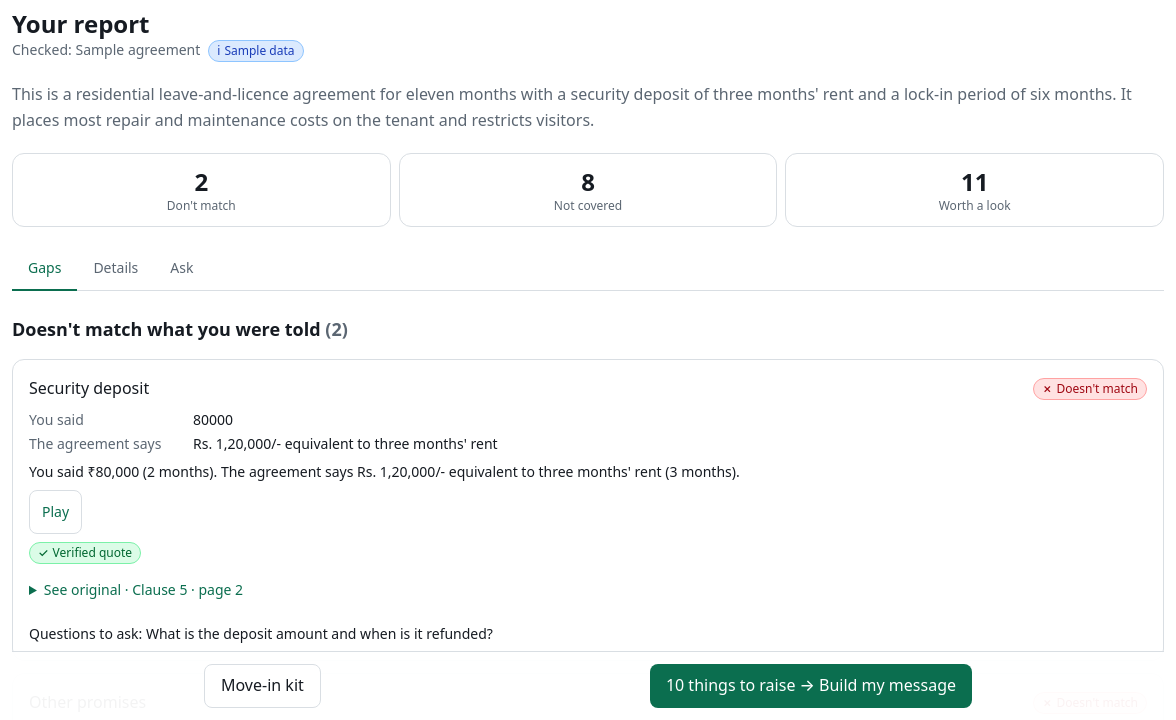
Test: Ask (demo sample) › says plainly when the agreement does not cover something
The image size is (1176, 720).
Click the tab "Ask" at (182, 269), box [154,247,209,291]
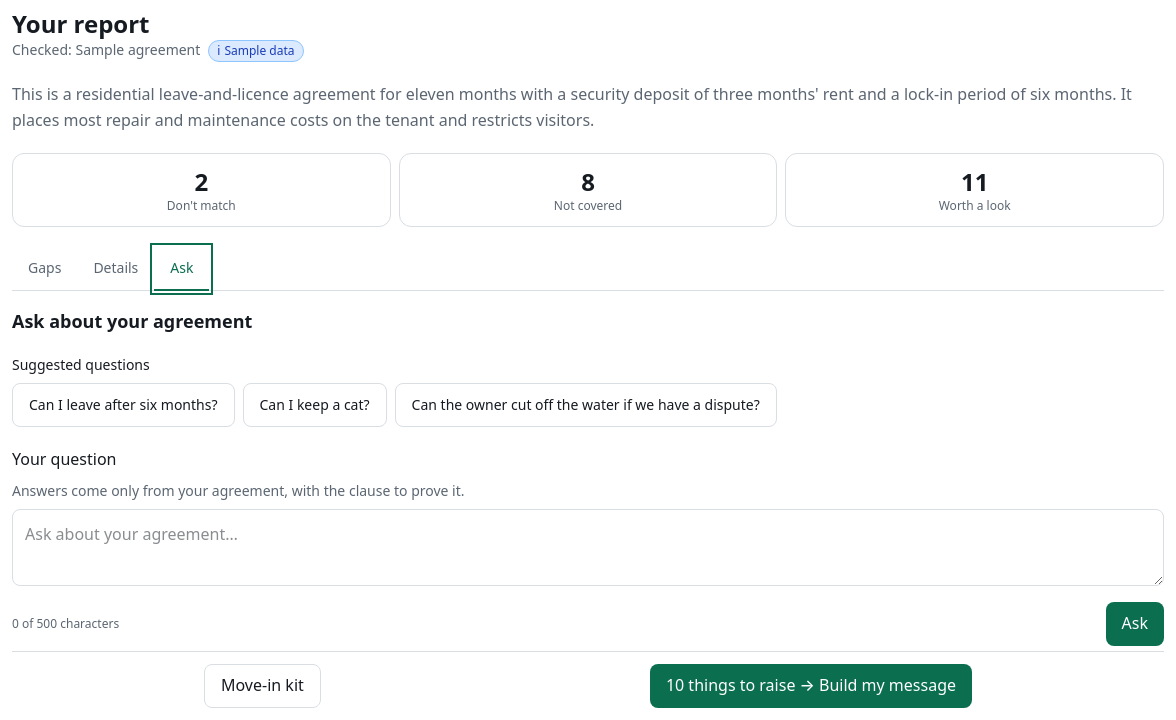
Click the button "Can I keep a cat?" at (315, 405), box [242,383,387,427]
(page scrolled)
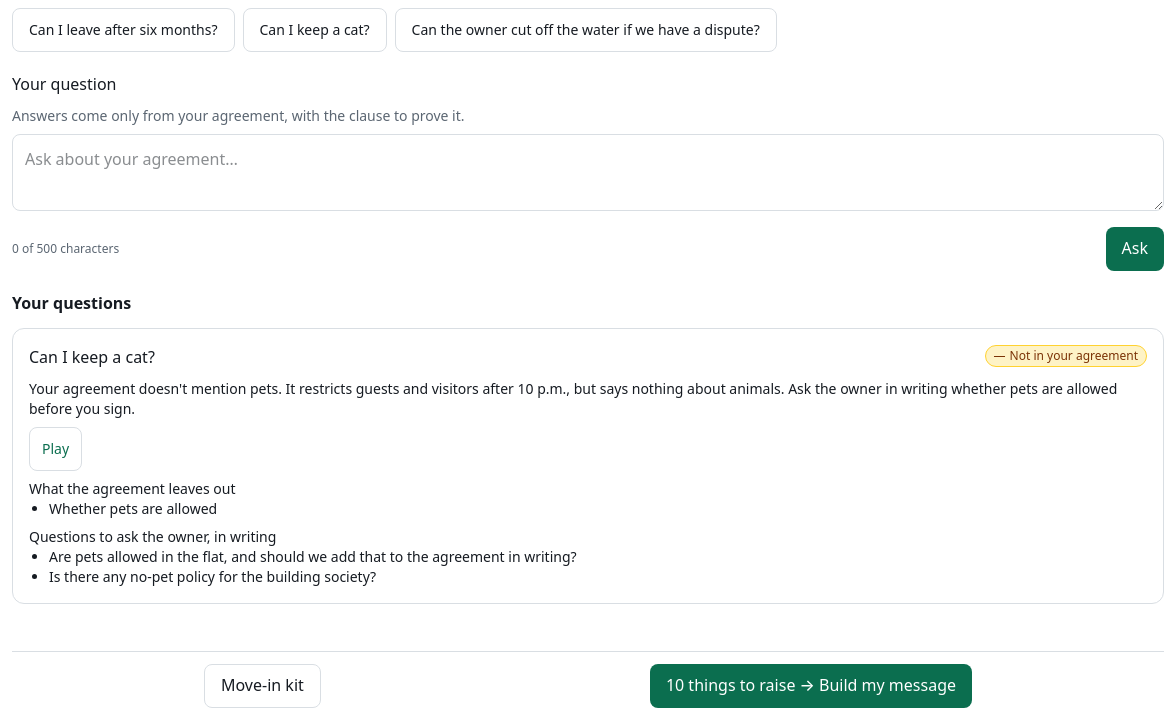
Expected: the text "Not in your agreement" is shown, [1010,348,1138,364]
Expected: the text "Questions to ask the owner, in writing" is shown, [29,527,276,546]
